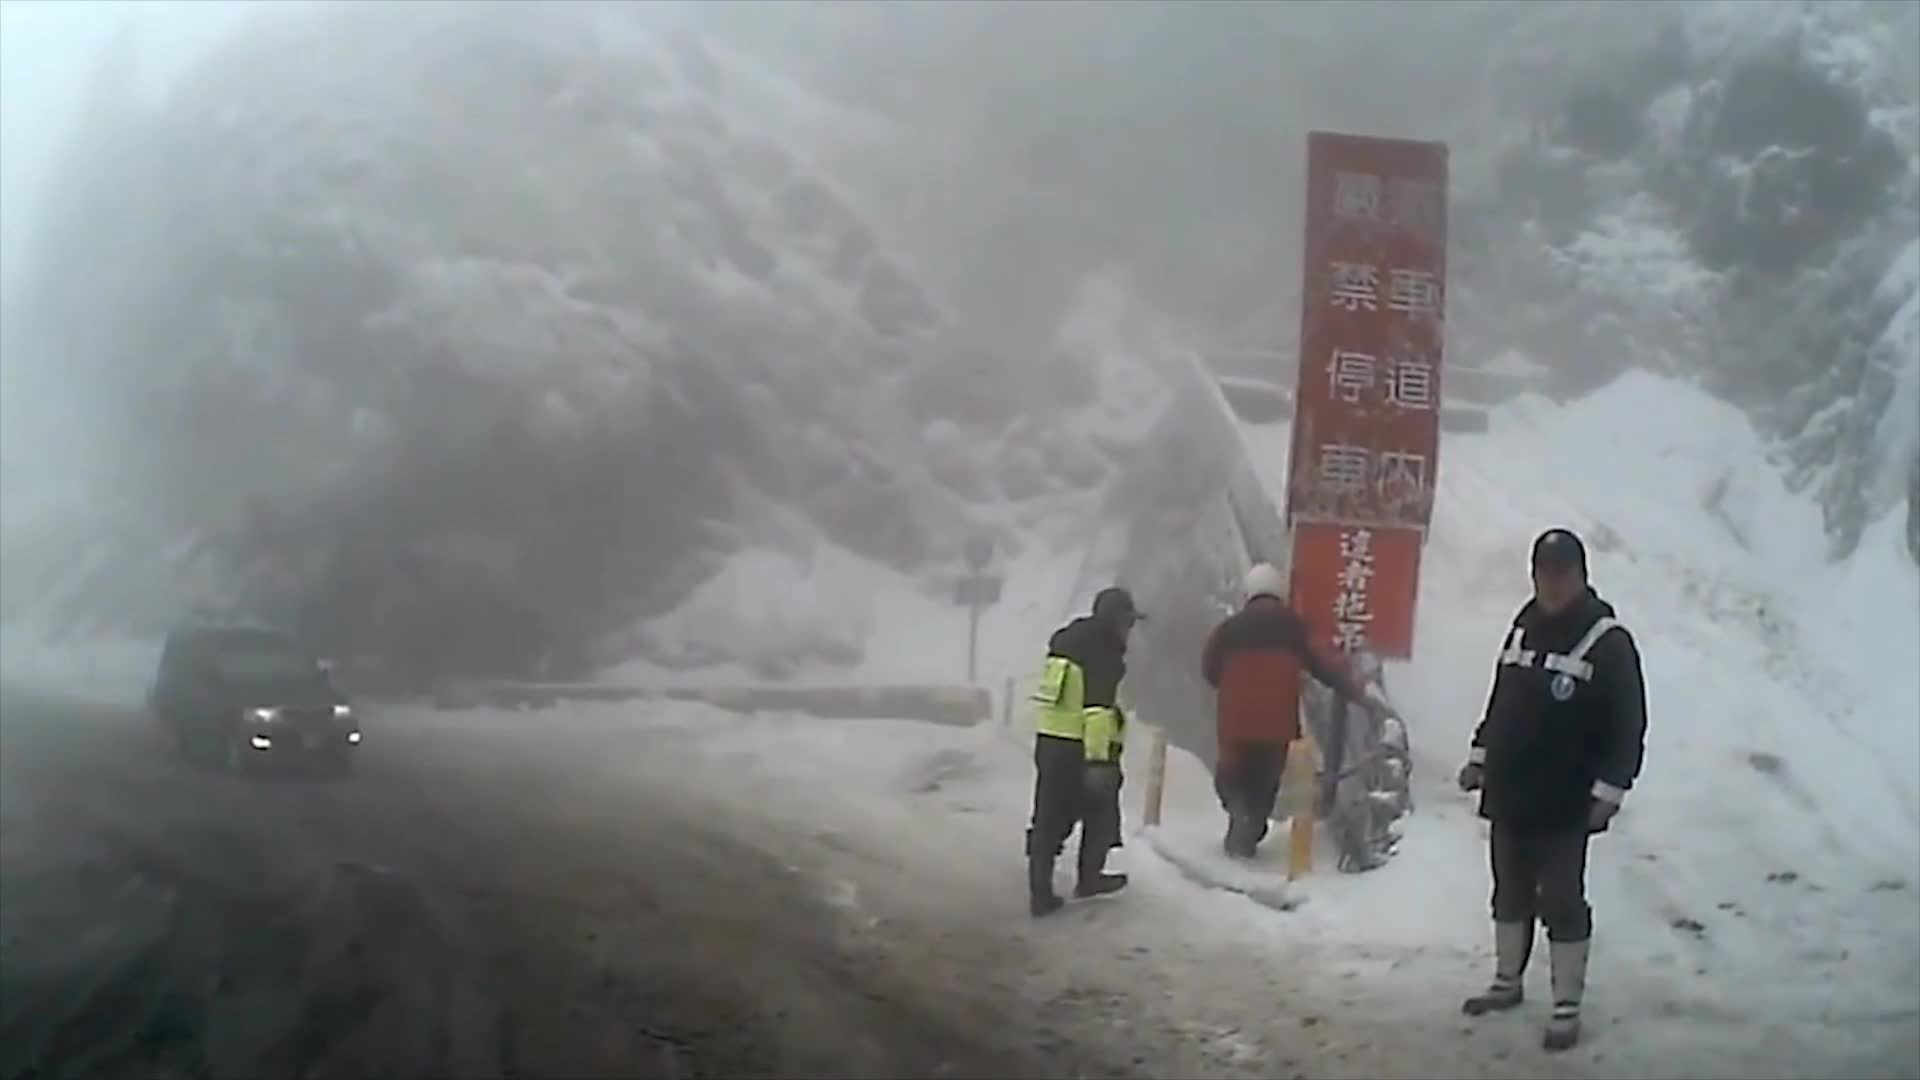pedestrian: (1465, 525, 1659, 1054), (1210, 558, 1346, 863), (1025, 591, 1148, 920)
vehicle: (156, 631, 366, 789)
